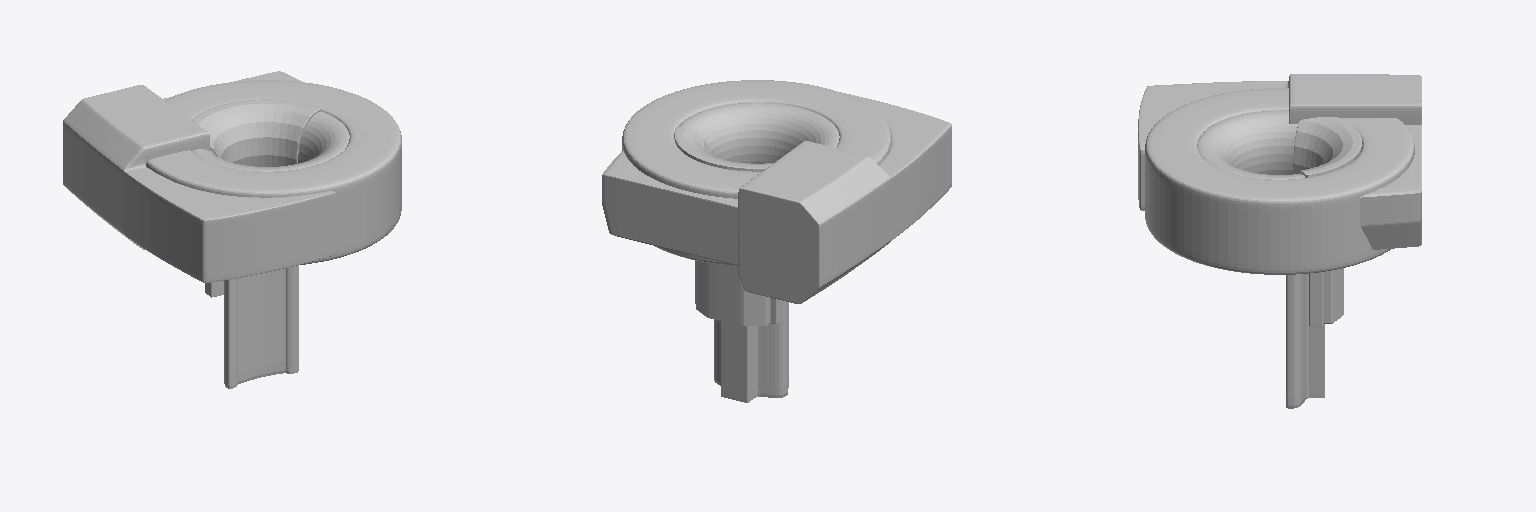
File: 16966_MRI_machine_v1.obj
The picture shows the model from 3 angles: view 1: azimuth 30°, elevation 25°; view 2: azimuth 150°, elevation 25°; view 3: azimuth 270°, elevation 25°; orthographic projection.
Parts seen in each view (by area): view 1: 16966_MRI_machine; view 2: 16966_MRI_machine; view 3: 16966_MRI_machine.
Boxes of the visible parts, x1=… form: 16966_MRI_machine: x1=63, y1=71, x2=401, y2=388; 16966_MRI_machine: x1=602, y1=80, x2=951, y2=402; 16966_MRI_machine: x1=1138, y1=74, x2=1421, y2=408.
Bounding box in the file's own units: 285 × 277 × 274.